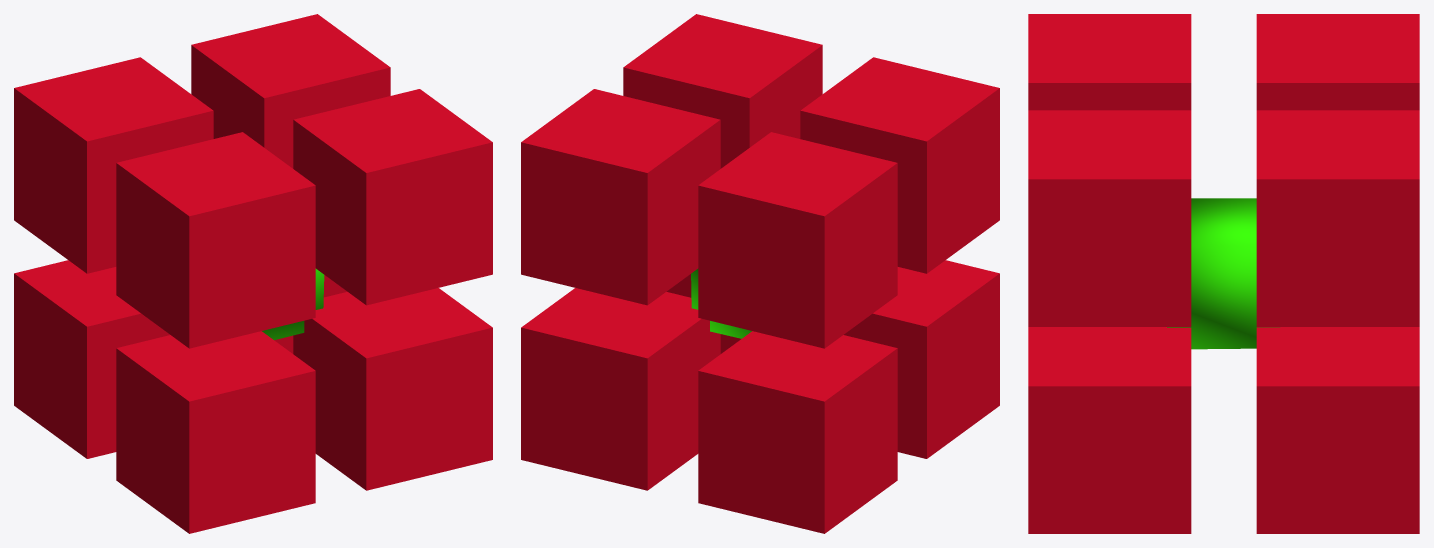
3 renders of one model, left to right at view 1: azimuth 30°, elevation 25°; view 2: azimuth 150°, elevation 25°; view 3: azimuth 270°, elevation 25°, orthographic. The views are drawn at different scales.
Parts seen in each view (by area): view 1: 8, 9, 7, 5, 4, 6, 2, 1; view 2: 4, 6, 2, 3, 8, 9, 7, 1, 5; view 3: 2, 7, 3, 5, 4, 8, 1.
Boxes of the visible parts, box(x1,y1,x2,y2) form: 8: box(116, 132, 315, 348); 9: box(116, 331, 315, 533); 7: box(293, 89, 492, 305); 5: box(293, 288, 492, 490); 4: box(14, 57, 213, 273); 6: box(14, 260, 169, 458); 2: box(191, 14, 390, 168); 1: box(262, 268, 324, 340); 4: box(698, 132, 897, 348); 6: box(698, 331, 897, 533); 2: box(521, 89, 720, 305); 3: box(521, 288, 720, 490); 8: box(800, 57, 999, 273); 9: box(844, 260, 999, 458); 7: box(623, 14, 822, 168); 1: box(691, 268, 751, 338); 5: box(666, 274, 740, 353); 2: box(1256, 110, 1419, 326); 7: box(1028, 110, 1191, 326); 3: box(1256, 327, 1419, 533); 5: box(1028, 327, 1191, 533); 4: box(1256, 14, 1419, 110); 8: box(1028, 14, 1191, 110); 1: box(1167, 198, 1279, 349).
Size of the model in its own units: 2.4 by 2.4 by 2.4.
